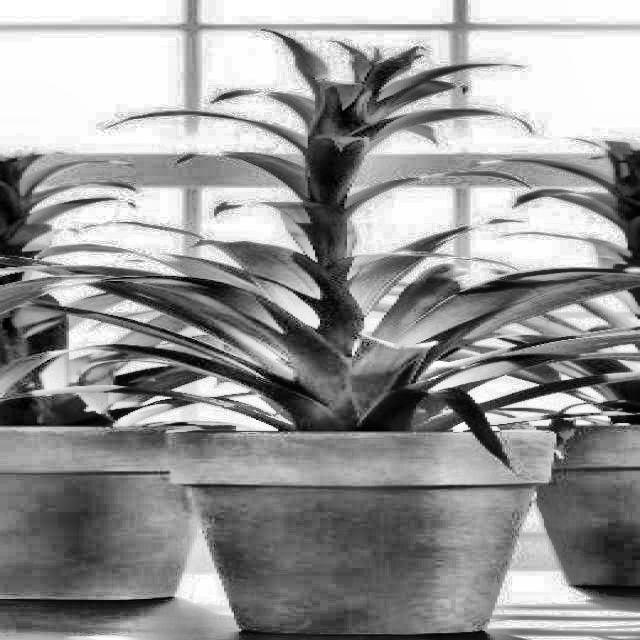plants: (109, 244, 576, 634), (0, 151, 95, 639), (568, 142, 638, 612)
